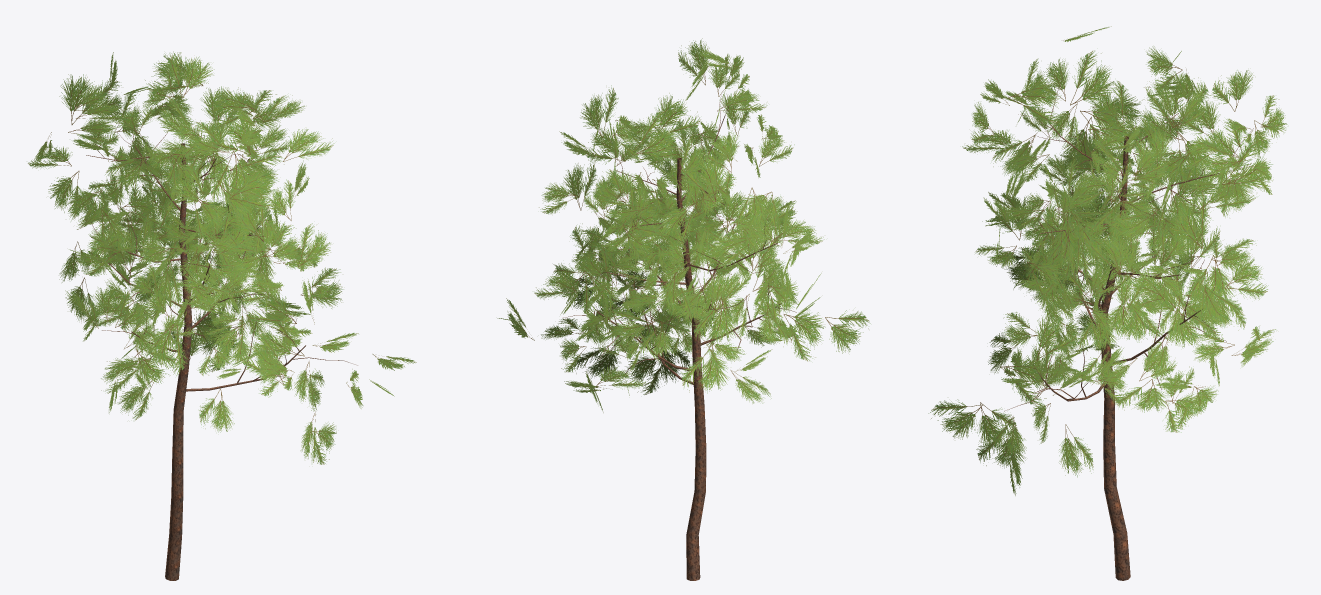
The model's file is AP2_AleppoPine_Medium_8m.glb.
The picture shows the model from 3 angles, left to right: view 1: azimuth 30°, elevation 25°; view 2: azimuth 150°, elevation 25°; view 3: azimuth 270°, elevation 25°; orthographic projection. The views are drawn at different scales.
Visible parts, largest first — view 1: AP2_leaves, AP2_wood; view 2: AP2_leaves, AP2_wood; view 3: AP2_leaves, AP2_wood.
Part boxes in pixels (left/top/right/bottom): AP2_leaves: left=28, top=51, right=416, bottom=464; AP2_wood: left=69, top=98, right=357, bottom=580; AP2_leaves: left=497, top=38, right=870, bottom=412; AP2_wood: left=563, top=95, right=796, bottom=580; AP2_leaves: left=928, top=26, right=1287, bottom=495; AP2_wood: left=1004, top=78, right=1253, bottom=580.
Bounding box in the file's own units: 5.14 × 8.01 × 5.09.
2 materials, 2 textured.
